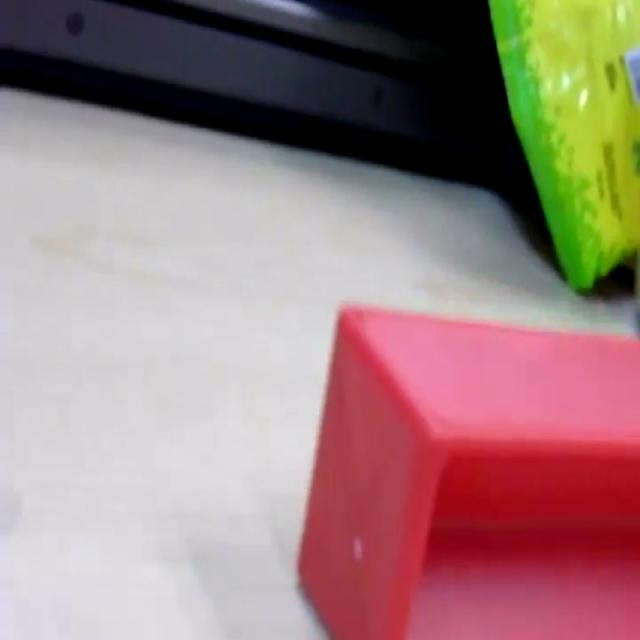red_block: (296, 299, 638, 636)
